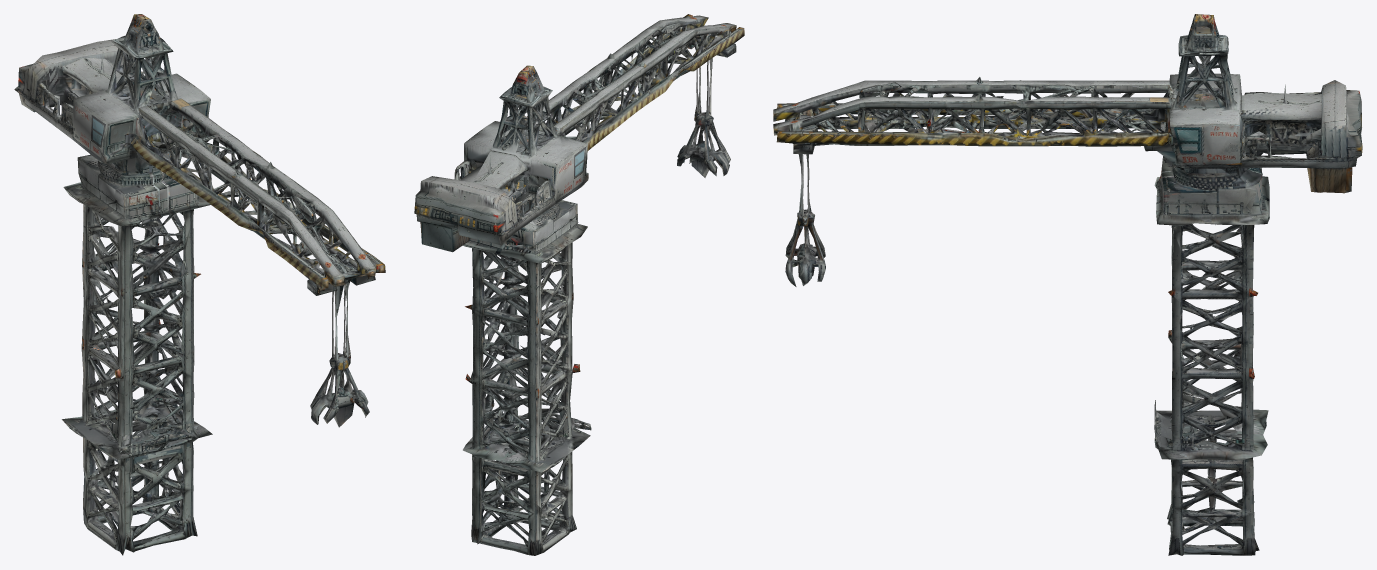
The model's file is DockingCrane.fbx.
3 renders of one model, left to right at view 1: azimuth 30°, elevation 25°; view 2: azimuth 150°, elevation 25°; view 3: azimuth 270°, elevation 25°, orthographic. The views are drawn at different scales.
Parts seen in each view (by area): view 1: texture_mapping; view 2: texture_mapping; view 3: texture_mapping.
Boxes of the visible parts, x1,y1,x2,y2 form: texture_mapping: (14, 14, 385, 555); texture_mapping: (414, 14, 744, 555); texture_mapping: (773, 14, 1362, 555).
Size of the model in its own units: 0.2087 by 1 by 0.9811.
Materials: 1 (1 with a texture image).
